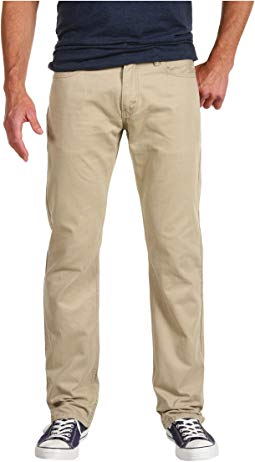jeans: (36, 59, 215, 421)
